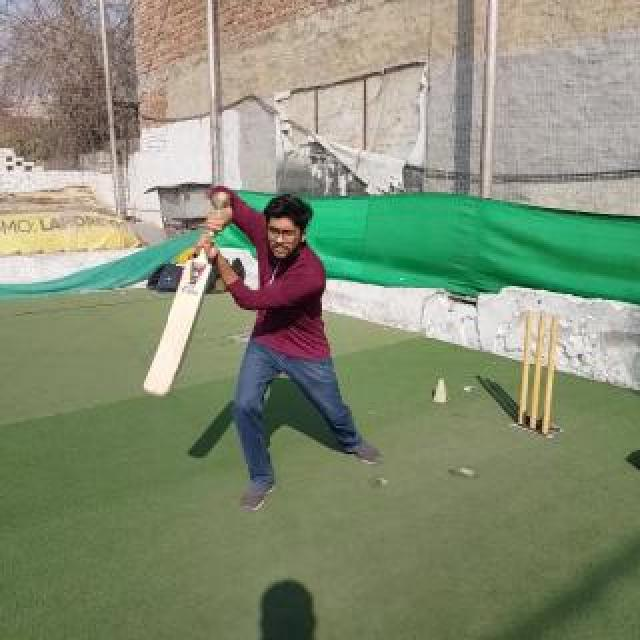bat: (142, 192, 228, 396)
